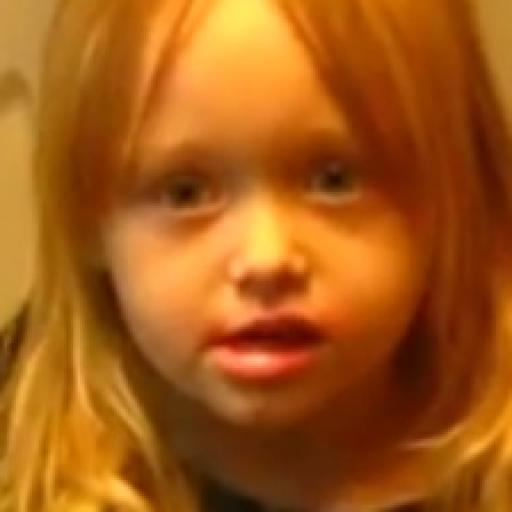Autism: (29, 0, 458, 512)
